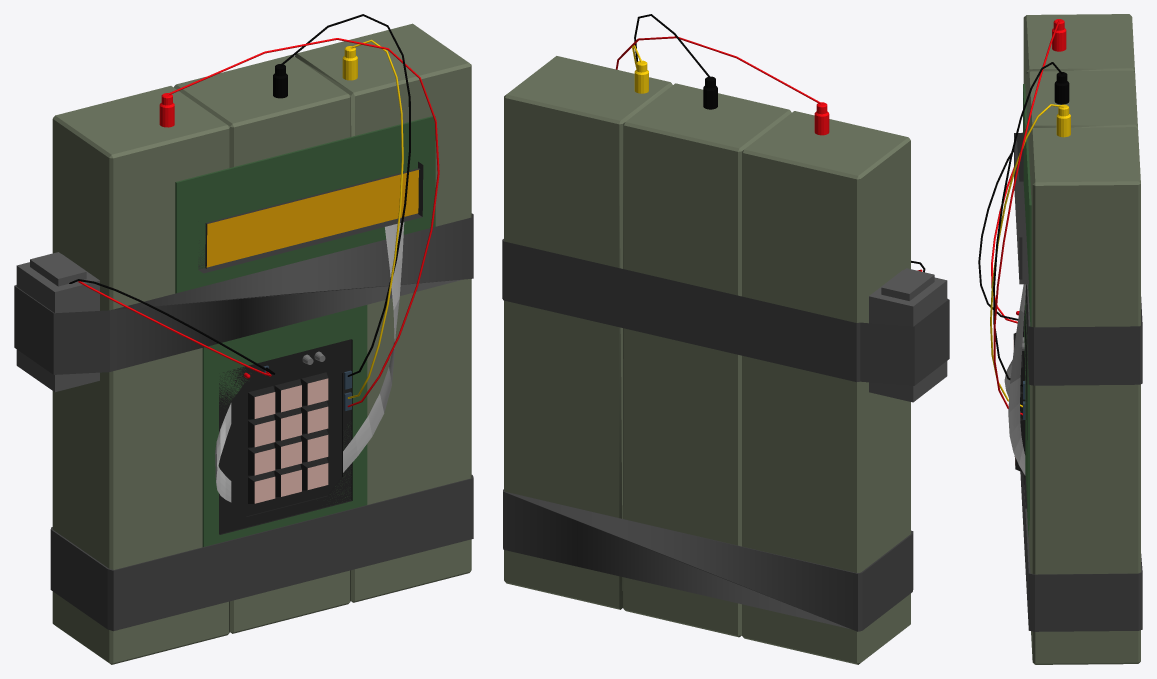
The model's file is C4LODS.fbx.
3 views of the same model, side by side, from view 1: azimuth 30°, elevation 25°; view 2: azimuth 150°, elevation 25°; view 3: azimuth 270°, elevation 25° (orthographic). The views are drawn at different scales.
Parts seen in each view (by area): view 1: с4_LOD0; view 2: с4_LOD0; view 3: с4_LOD0.
Boxes of the visible parts, x1,y1,x2,y2 form: с4_LOD0: (14, 14, 473, 664); с4_LOD0: (502, 14, 949, 664); с4_LOD0: (978, 14, 1142, 664).
Size of what is drawn, in the model's own units: 91.17 by 121 by 32.83.
